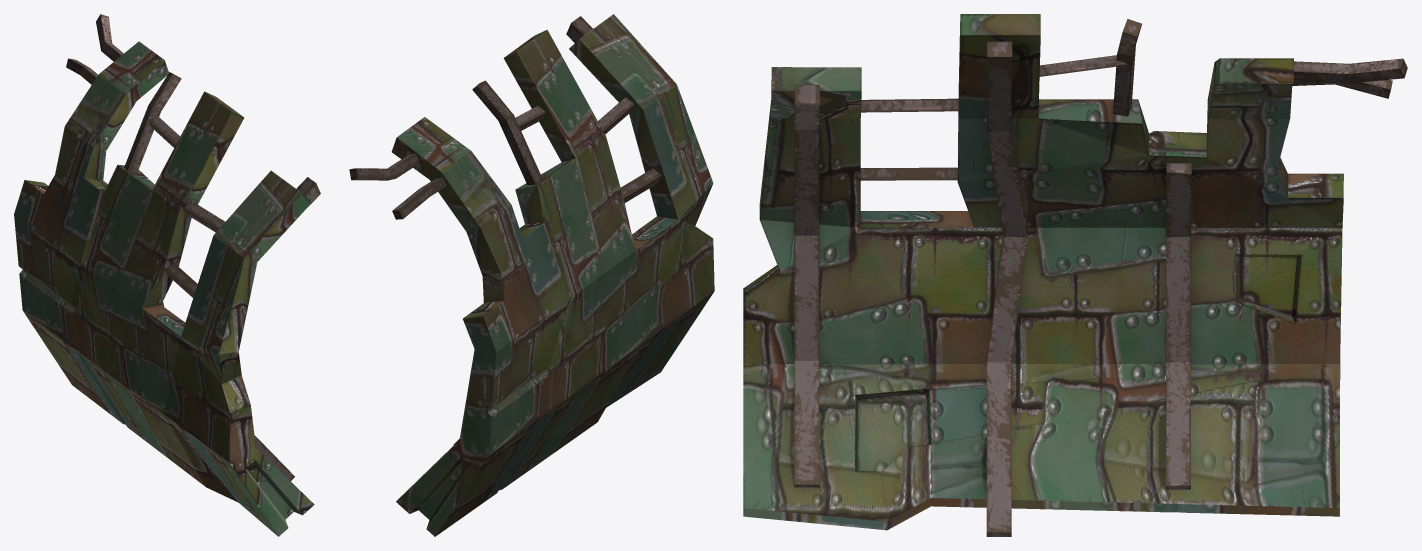
The model's file is MetalScrarp.fbx.
3 views of the same model, side by side, from view 1: azimuth 30°, elevation 25°; view 2: azimuth 150°, elevation 25°; view 3: azimuth 270°, elevation 25° (orthographic). The views are drawn at different scales.
Parts seen in each view (by area): view 1: MetalStructure; view 2: MetalStructure; view 3: MetalStructure.
Part boxes in pixels (x1,y1,x2,y2): MetalStructure: [14, 14, 320, 536]; MetalStructure: [349, 14, 714, 536]; MetalStructure: [743, 14, 1407, 536].
Bounding box in the file's own units: 210 × 628 × 714.
